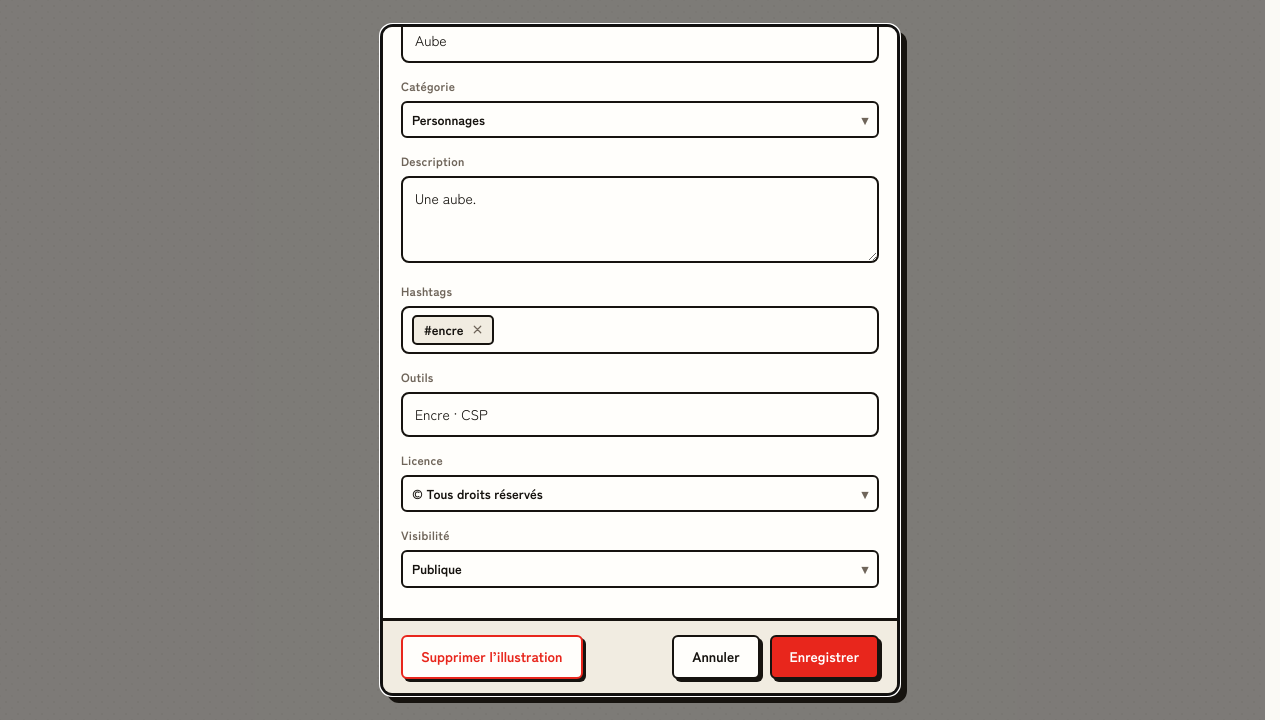
Test: EditIllustrationForm (DR-12 FE-13 · V12) › shows a French notice in the modal when the deletion fails
(page scrolled)
Step 1. Click the button "Supprimer l’illustration" → [492, 656], box [401,634,583,678]
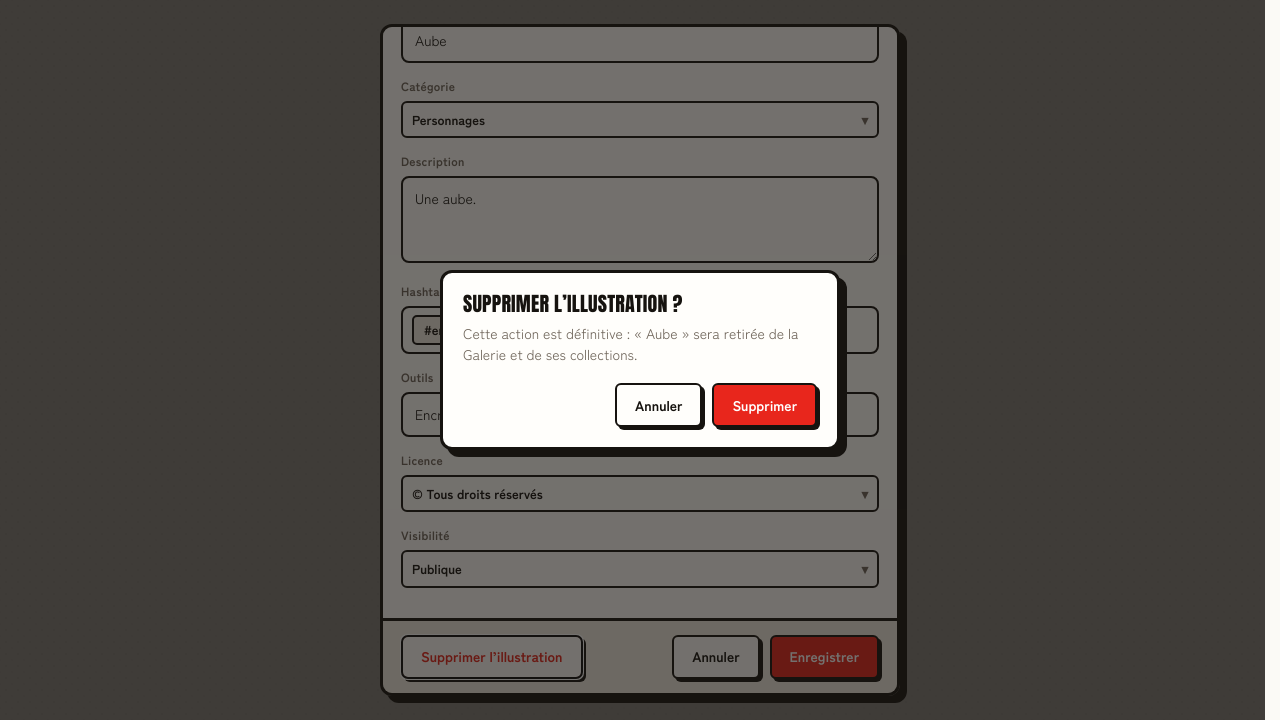
Step 2. Click the button "Supprimer" → [765, 405], box [712,383,817,427]
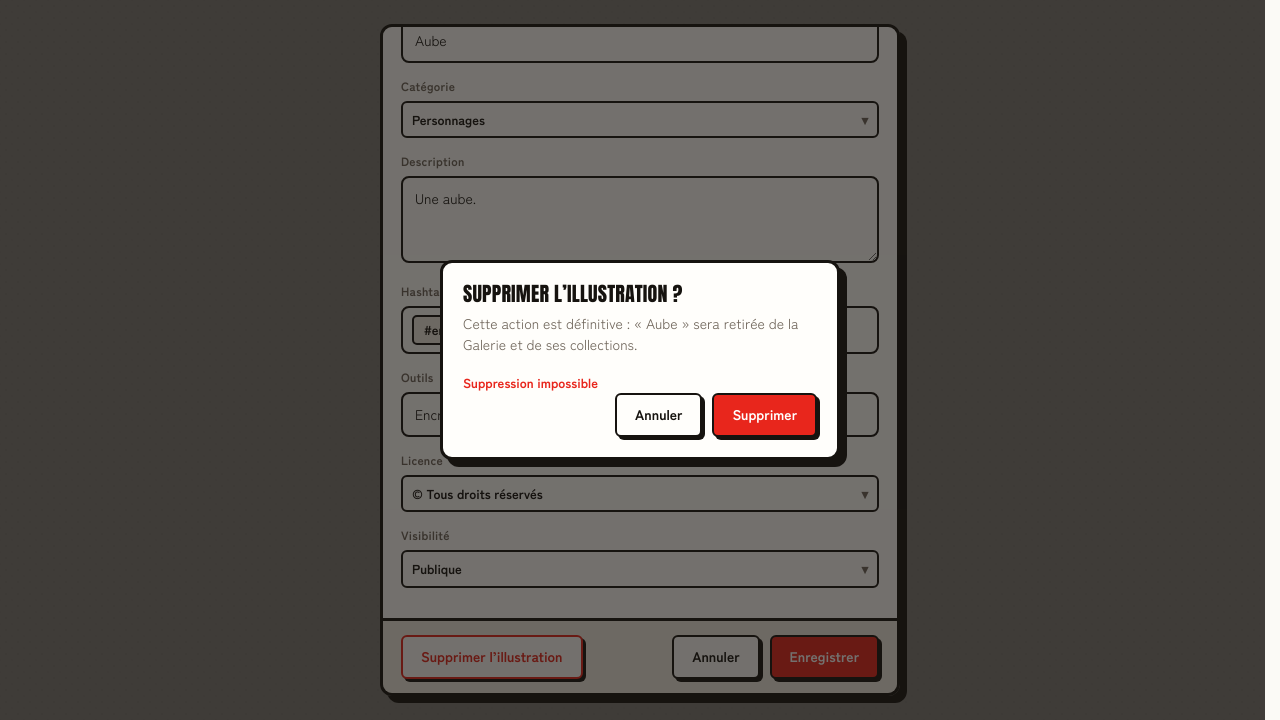
Expected: the text "Suppression impossible" is shown, [463,373,598,392]
